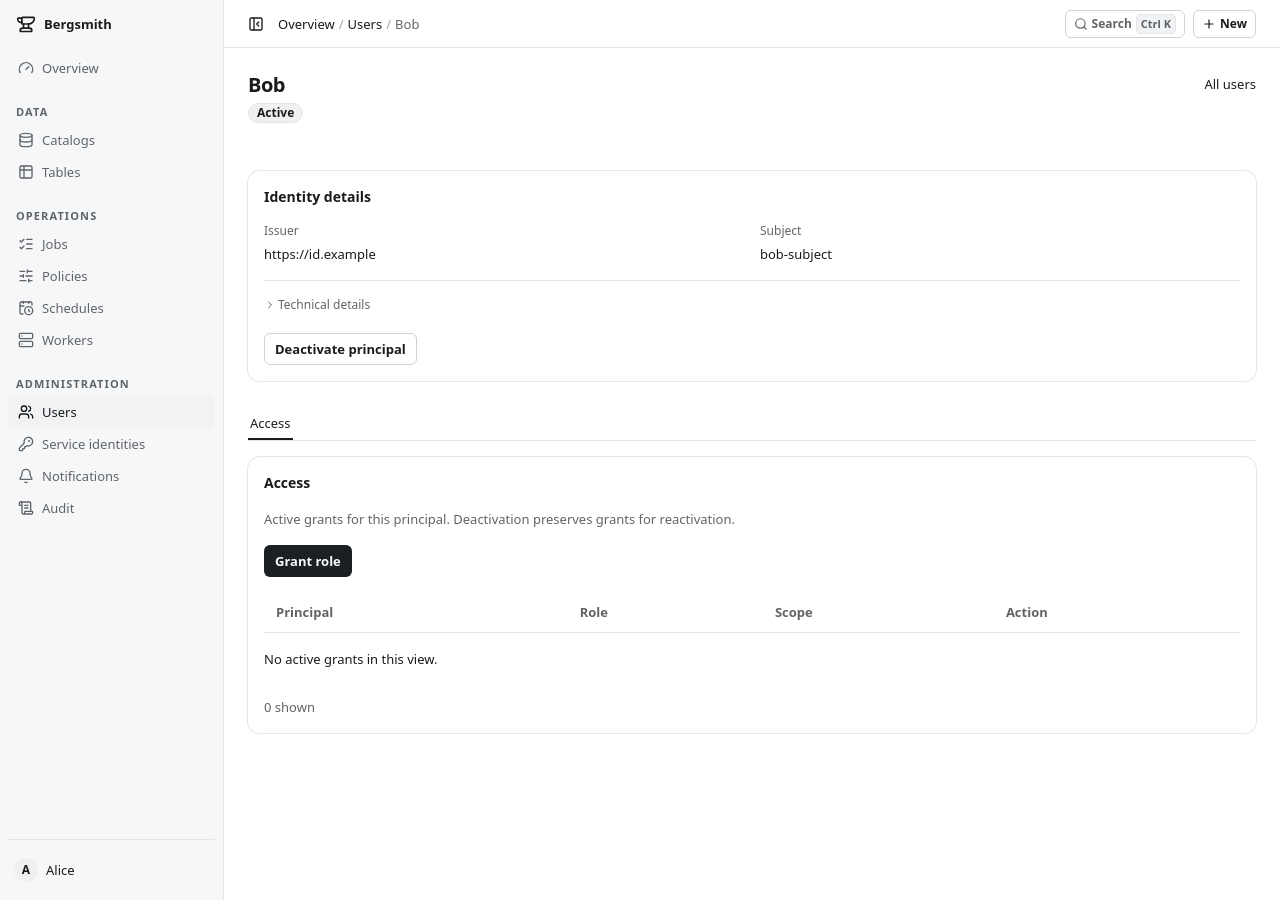
Test: updates active state after a successful deactivation and allows reactivation
Click the button "Deactivate principal".
click(340, 349)  # box left=264, top=333, right=417, bottom=365
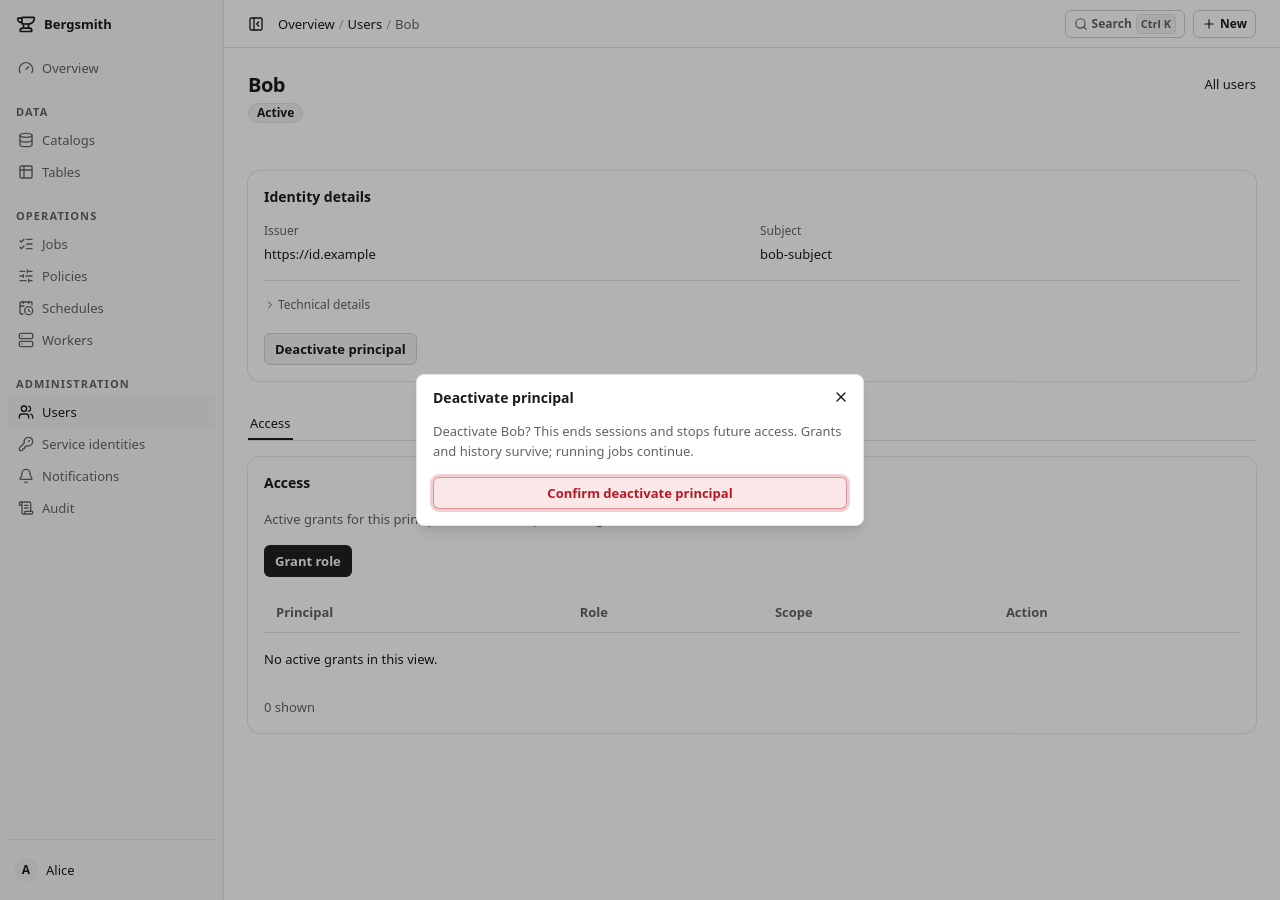
Click the button "Confirm deactivate principal".
click(640, 493)  # box left=433, top=477, right=847, bottom=509
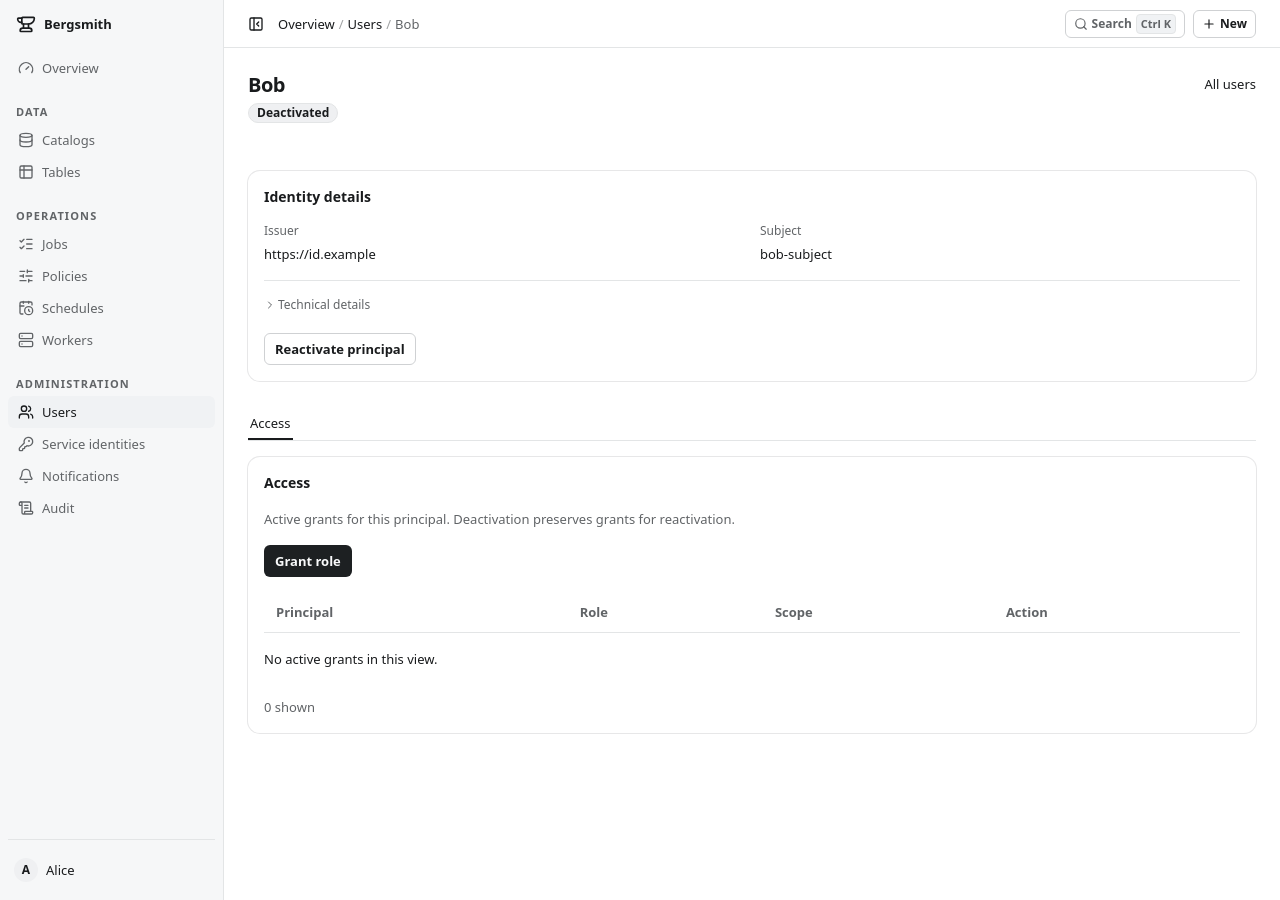
Click the button "Reactivate principal".
click(340, 349)  # box left=264, top=333, right=416, bottom=365
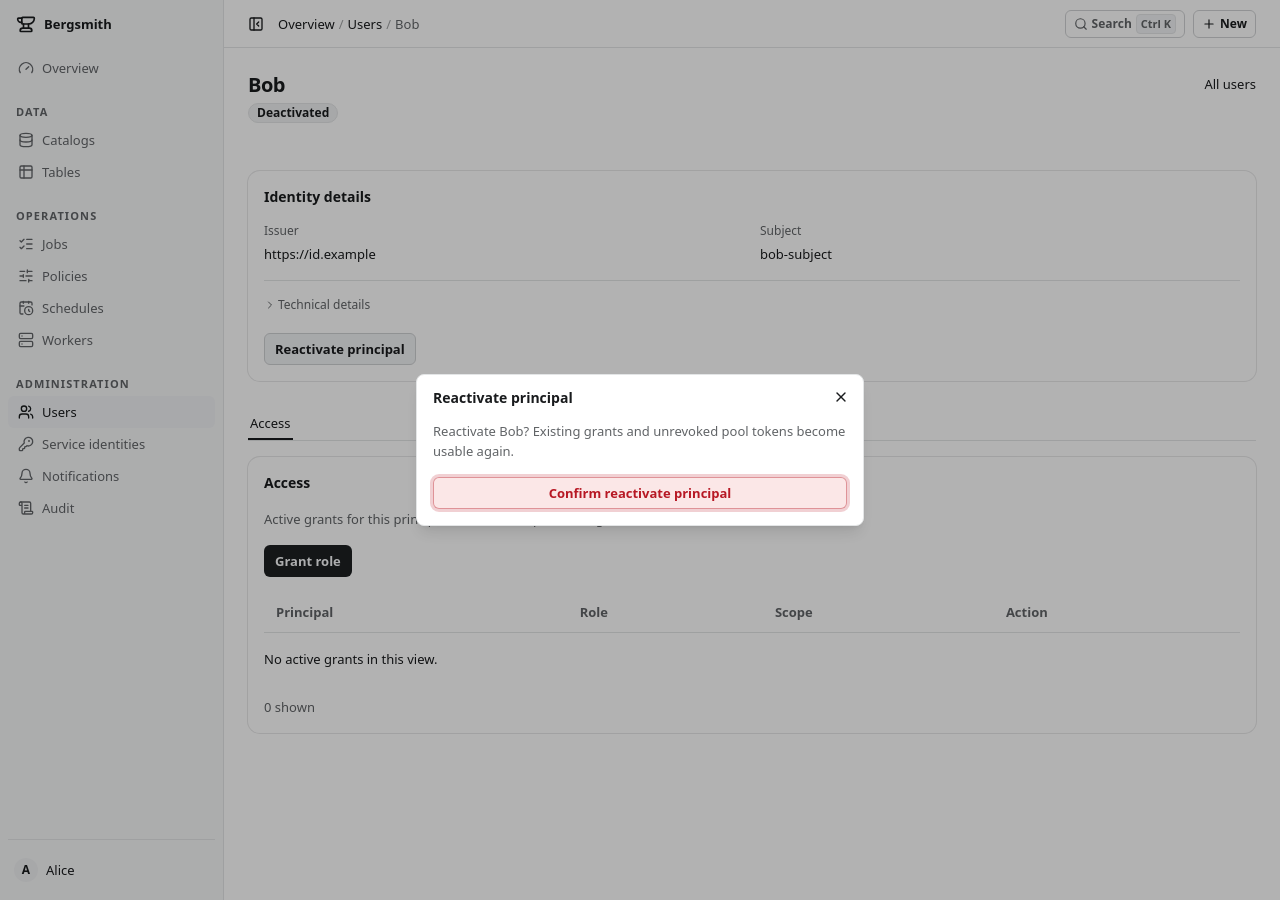
Click the button "Confirm reactivate principal".
click(640, 493)  # box left=433, top=477, right=847, bottom=509
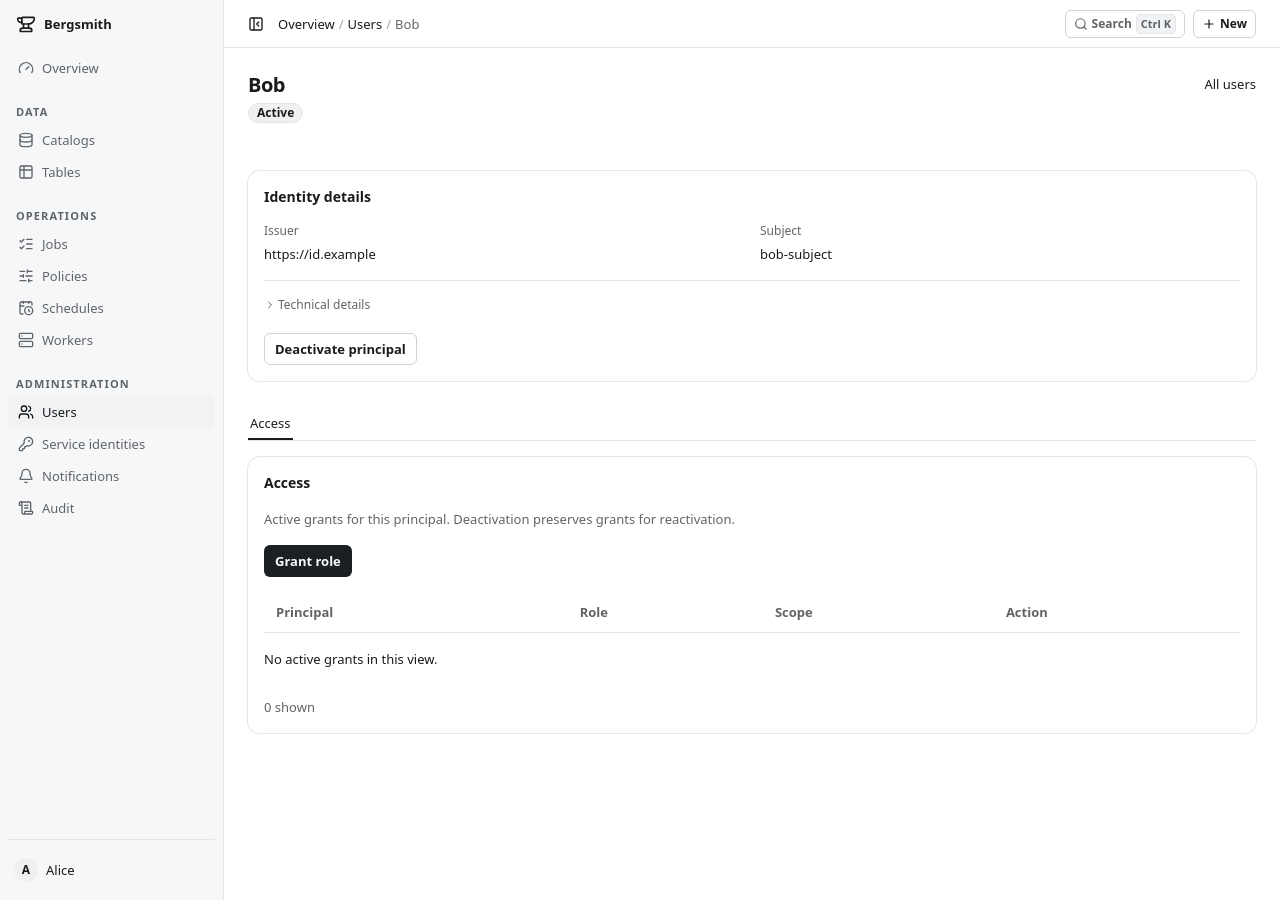
Expected: the button "Deactivate principal" is shown, left=264, top=333, right=417, bottom=365
